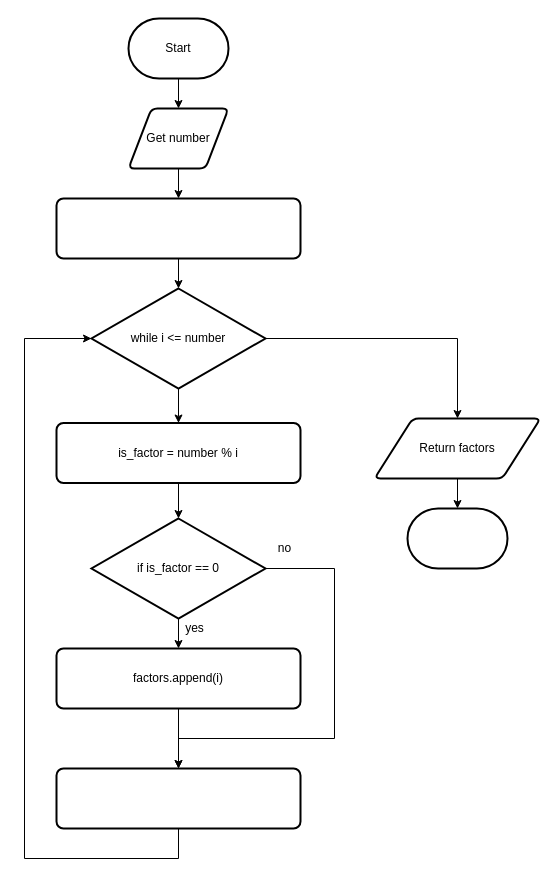
Some shapes in this 559 by 884 pixel diagram are drawn without their labels. The shapes that lost their labels are listed below. From the top down, each one's centre as x and y in pixels, then its label:
the point at 178,228: i = 1
the point at 457,538: Stop
the point at 178,798: i += 1
